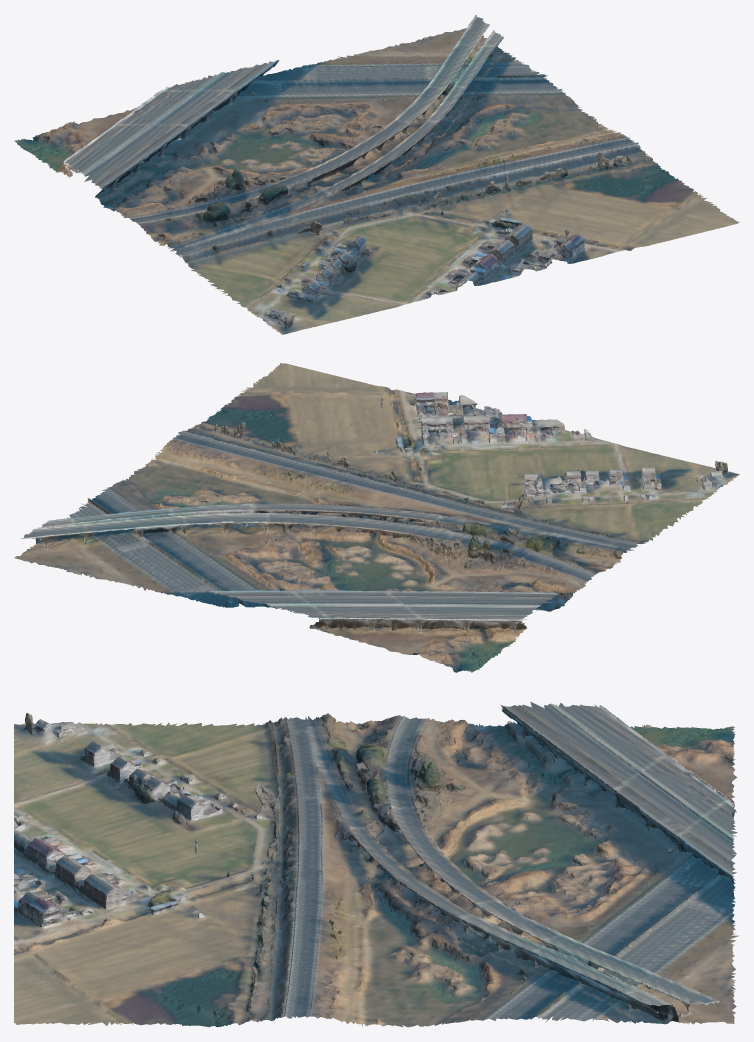
Rendered from EnvAsset_009_Tile_11.obj.
The picture shows the model from 3 angles, top to bottom: view 1: azimuth 30°, elevation 25°; view 2: azimuth 150°, elevation 25°; view 3: azimuth 270°, elevation 25°; orthographic projection. The views are drawn at different scales.
Size of the model in its own units: 353 by 44.39 by 352.
1 material, 1 textured.
